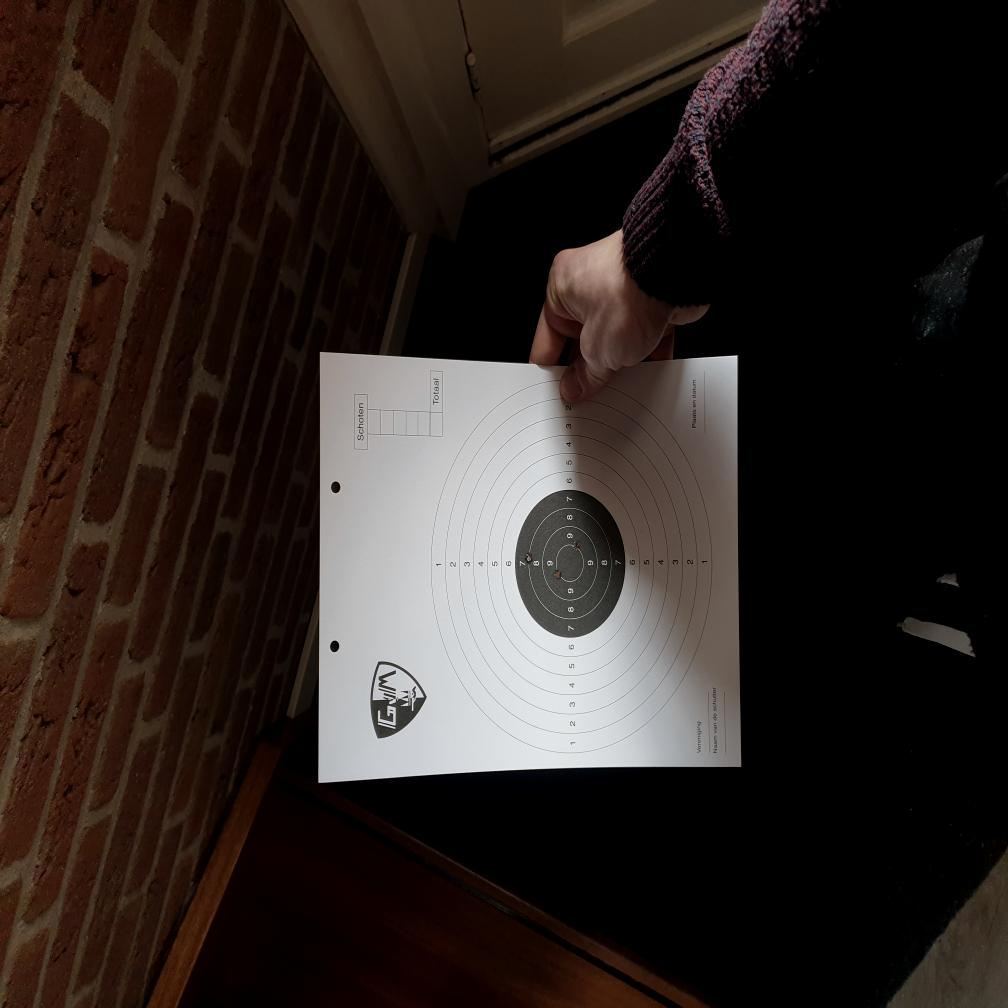10: (572, 540, 581, 552), (553, 569, 561, 582)
8: (524, 552, 533, 564)
Target: (430, 381, 712, 755)
black_contour: (516, 490, 625, 637)
